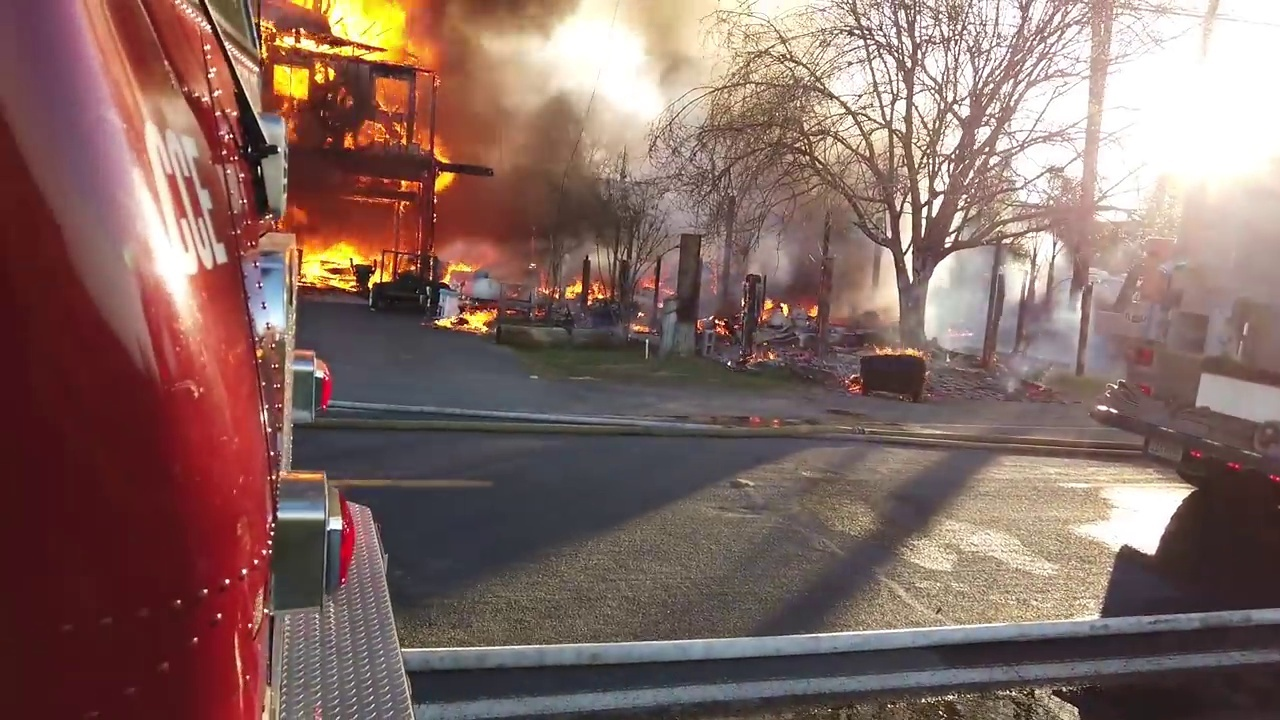fire: (263, 1, 411, 127), (299, 233, 389, 289), (530, 275, 617, 301), (435, 304, 498, 333), (346, 118, 389, 150), (396, 179, 423, 218), (636, 267, 668, 297), (444, 260, 478, 283), (759, 295, 788, 319), (872, 342, 924, 355), (840, 368, 861, 397), (434, 170, 459, 194), (430, 143, 453, 169), (744, 345, 778, 361), (712, 313, 731, 332), (632, 313, 652, 329), (803, 299, 818, 315), (526, 259, 539, 269)
smoke: (461, 1, 626, 250), (1179, 41, 1280, 282), (632, 1, 731, 112), (762, 215, 896, 294), (1003, 275, 1079, 394), (295, 159, 396, 232), (413, 3, 459, 142), (937, 259, 987, 354), (549, 249, 627, 276), (436, 196, 460, 258), (484, 250, 525, 280)
